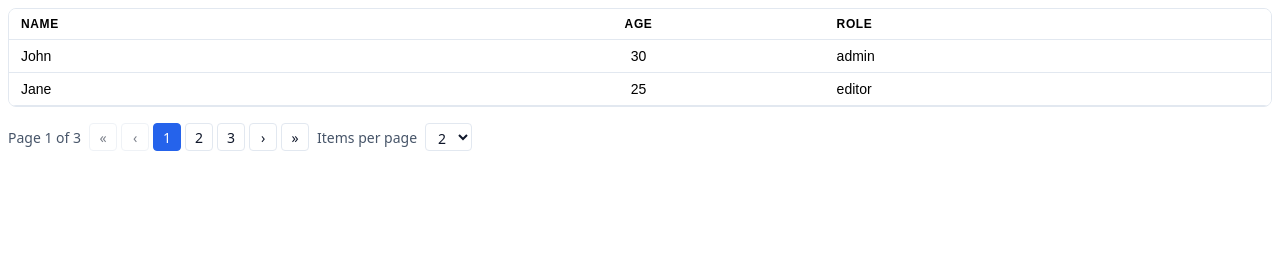
Test: DataGrid › changes page size and clamps to page 1
The image size is (1280, 267).
Step 1. Click the button "2" → click(199, 137), box [185,123,213,151]
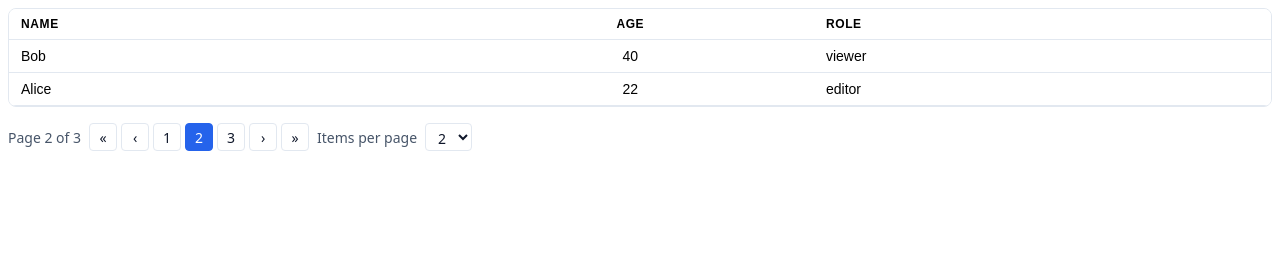
Step 2. Select "5" in the dropdown labelled "Items per page" → (449, 137), box [425,123,472,151]
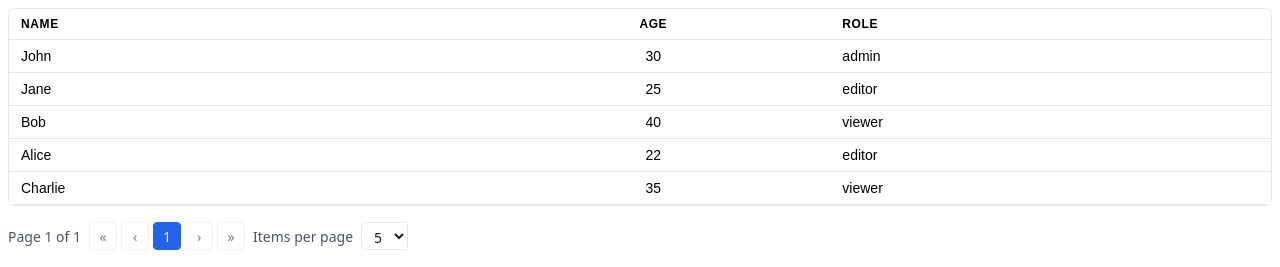
Check: the number of rows is 6, box [9,9,1271,40]; [9,40,1271,72]; [9,72,1271,106]; [9,106,1271,138]; [9,138,1271,172]; [9,172,1271,204]
Check: the text "Page 1 of 1" is shown, box [8,226,81,246]
